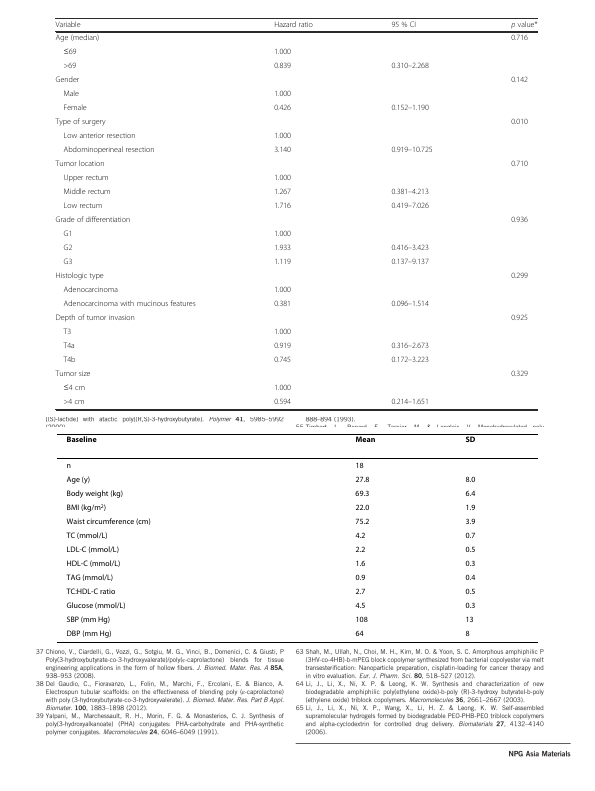borderless: (54, 17, 537, 409), (56, 432, 538, 642)
cell: (62, 300, 196, 310), (62, 146, 155, 156), (66, 517, 152, 527), (54, 314, 136, 324), (54, 216, 131, 226), (62, 132, 136, 142), (66, 601, 127, 611), (66, 489, 124, 499), (62, 286, 119, 296), (66, 559, 121, 569), (66, 545, 120, 555), (55, 118, 106, 128), (54, 272, 105, 282), (55, 160, 105, 170), (62, 188, 112, 198), (66, 587, 116, 597), (66, 573, 114, 583), (62, 174, 109, 184), (66, 629, 112, 639), (55, 34, 100, 44), (66, 615, 111, 625), (390, 146, 433, 156), (66, 531, 108, 541), (62, 202, 103, 212), (66, 503, 107, 513), (390, 62, 430, 72), (390, 104, 430, 114), (390, 188, 430, 198), (390, 202, 430, 212), (390, 244, 430, 254), (390, 258, 430, 268), (390, 300, 430, 310), (390, 342, 430, 352), (390, 356, 430, 366), (390, 398, 430, 408), (54, 370, 91, 380), (273, 21, 314, 30), (62, 104, 88, 114), (66, 435, 98, 443), (510, 21, 538, 30), (55, 76, 80, 86), (66, 475, 91, 485), (390, 21, 417, 30), (62, 384, 86, 394), (55, 21, 81, 30), (62, 398, 85, 408), (510, 34, 529, 44), (273, 48, 292, 58), (273, 62, 292, 72), (510, 76, 529, 86), (273, 90, 292, 100), (273, 104, 292, 114), (510, 118, 529, 128), (273, 132, 292, 142), (273, 146, 292, 156), (510, 160, 529, 170), (273, 174, 292, 184), (273, 188, 292, 198), (273, 202, 292, 212), (510, 216, 529, 226), (273, 230, 292, 240), (273, 244, 292, 254), (273, 258, 292, 268), (510, 272, 529, 282), (273, 286, 292, 296), (273, 300, 292, 310), (510, 314, 529, 324), (273, 328, 292, 338), (273, 342, 292, 352), (273, 356, 292, 366), (510, 370, 529, 380), (273, 384, 292, 394), (273, 398, 292, 408), (62, 90, 80, 100), (354, 435, 376, 443), (354, 475, 370, 485), (354, 489, 370, 499), (354, 503, 370, 513), (354, 517, 370, 527), (62, 48, 77, 58), (62, 62, 77, 72), (354, 615, 369, 625), (62, 342, 76, 352), (62, 356, 76, 366), (464, 475, 476, 485), (464, 489, 476, 499), (464, 503, 476, 513), (464, 517, 476, 527), (354, 531, 366, 541), (464, 531, 476, 541), (354, 545, 366, 555), (464, 545, 476, 555), (354, 559, 366, 569), (464, 559, 476, 569), (354, 573, 366, 583), (464, 573, 476, 583), (354, 587, 366, 597), (464, 587, 476, 597), (354, 601, 366, 611), (62, 230, 73, 240), (62, 244, 73, 254), (62, 258, 73, 268), (354, 461, 365, 471), (465, 601, 476, 611), (464, 615, 475, 625), (354, 629, 365, 639), (62, 328, 72, 338), (464, 435, 476, 443), (464, 629, 471, 639), (66, 461, 72, 471)
